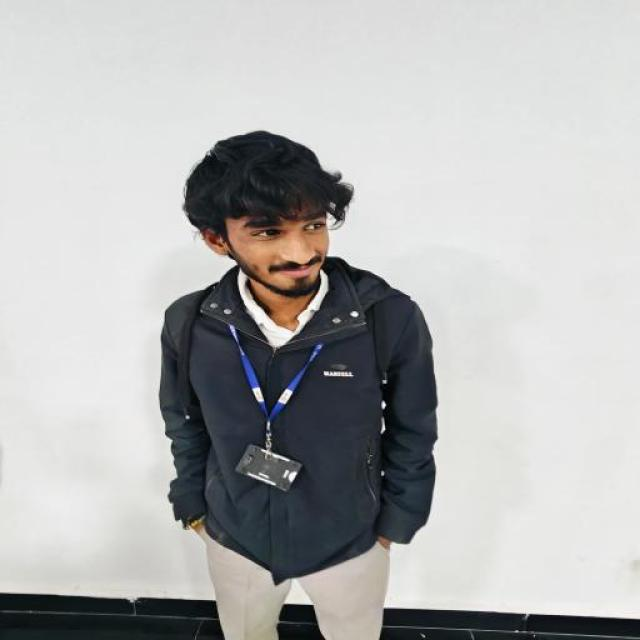Card: (235, 444, 302, 491)
Id strap: (229, 325, 323, 423)
